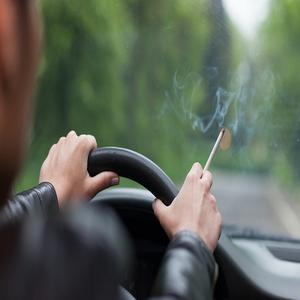cigarette: (199, 128, 226, 179)
